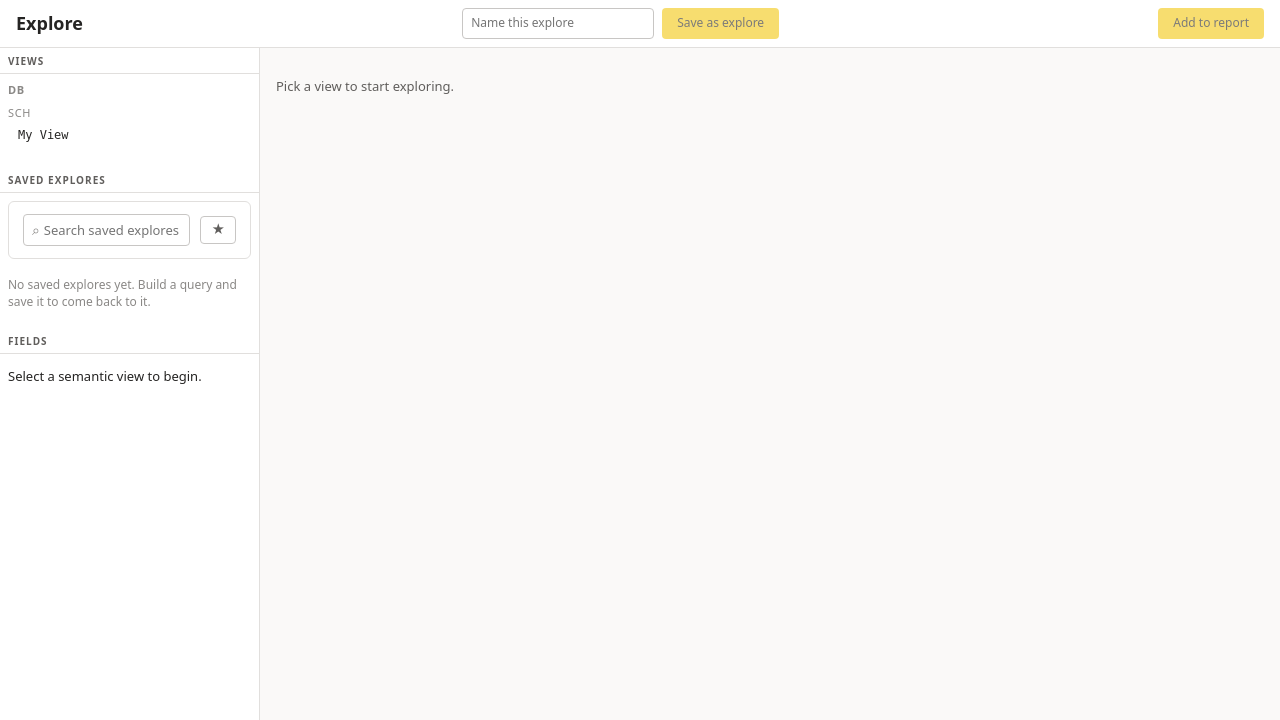
Test case: ExplorerPage › falls back to a generic message for non-ApiError failures
Step 1. Click the button "My View" → {"x": 130, "y": 136}, box [10,123,251,149]
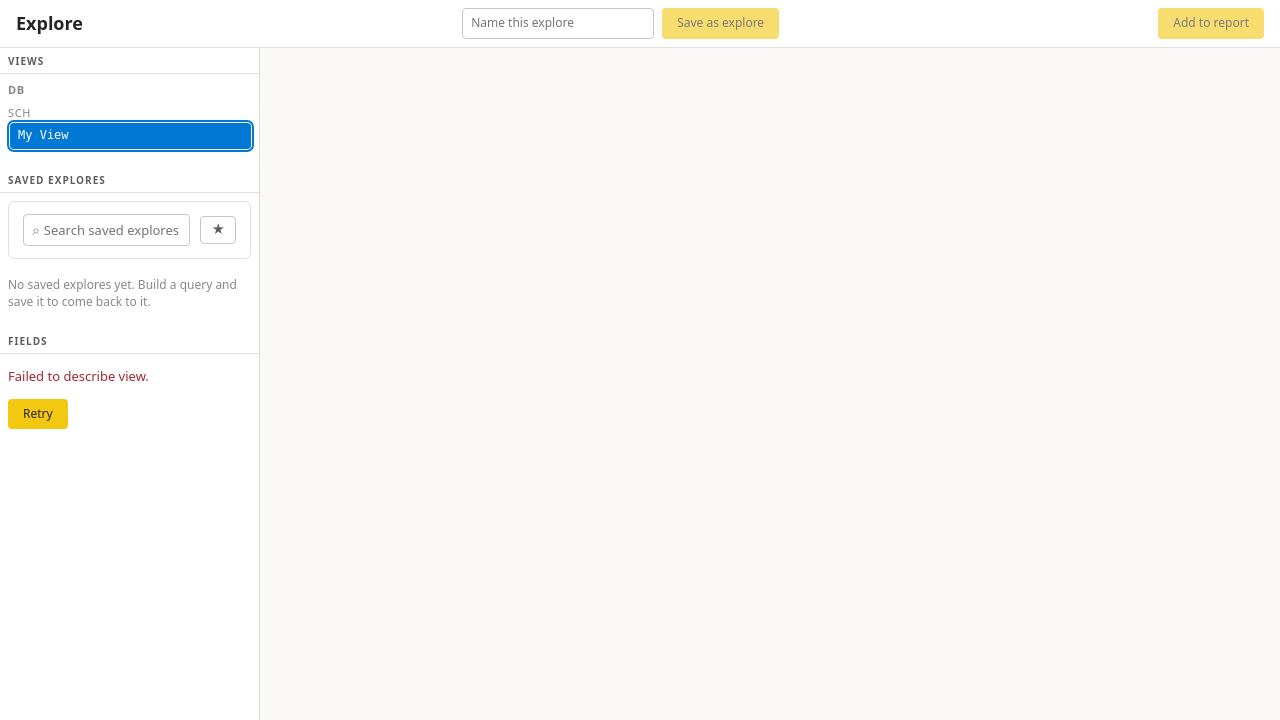
Expected: the message shows "Failed to describe", [8,367,149,385]
